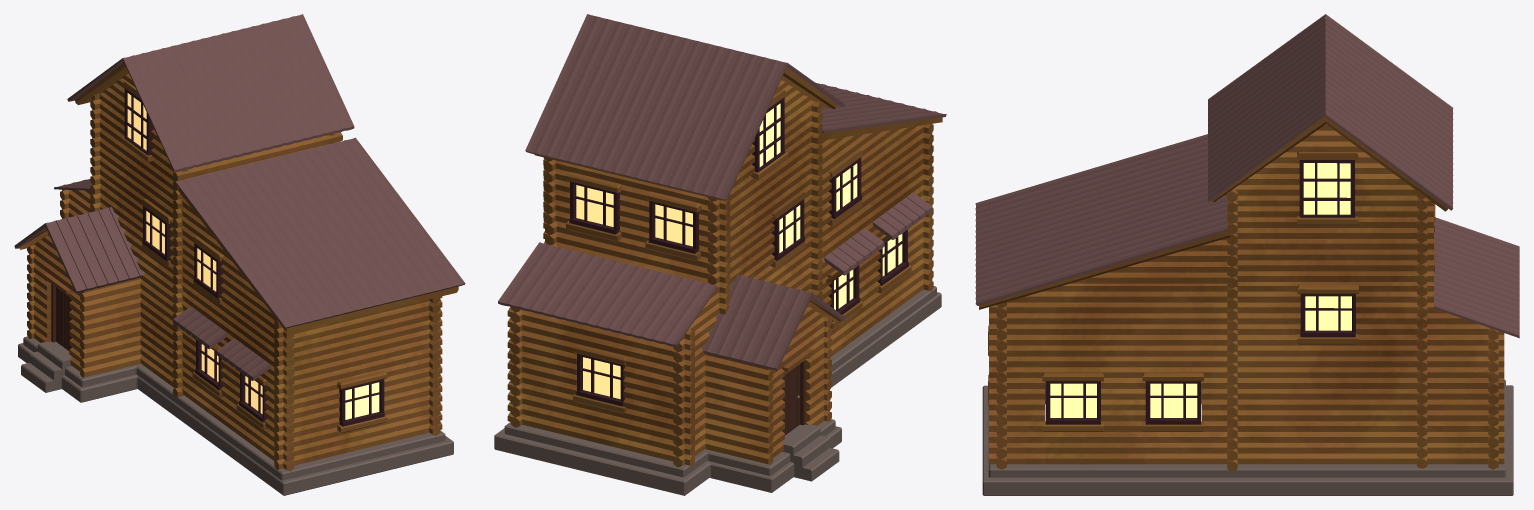
Rendered from house_wood_3f_2x1.glb.
3 views of the same model, side by side, from view 1: azimuth 30°, elevation 25°; view 2: azimuth 150°, elevation 25°; view 3: azimuth 270°, elevation 25° (orthographic). The views are drawn at different scales.
Parts seen in each view (by area): view 1: w3F2to1; view 2: w3F2to1; view 3: w3F2to1.
Part boxes in pixels (x1,y1,x2,y2): w3F2to1: (14, 14, 465, 495); w3F2to1: (494, 14, 946, 495); w3F2to1: (975, 14, 1519, 495).
Size of the model in its own units: 9.75 by 12.29 by 15.92.
6 materials, 1 textured.
